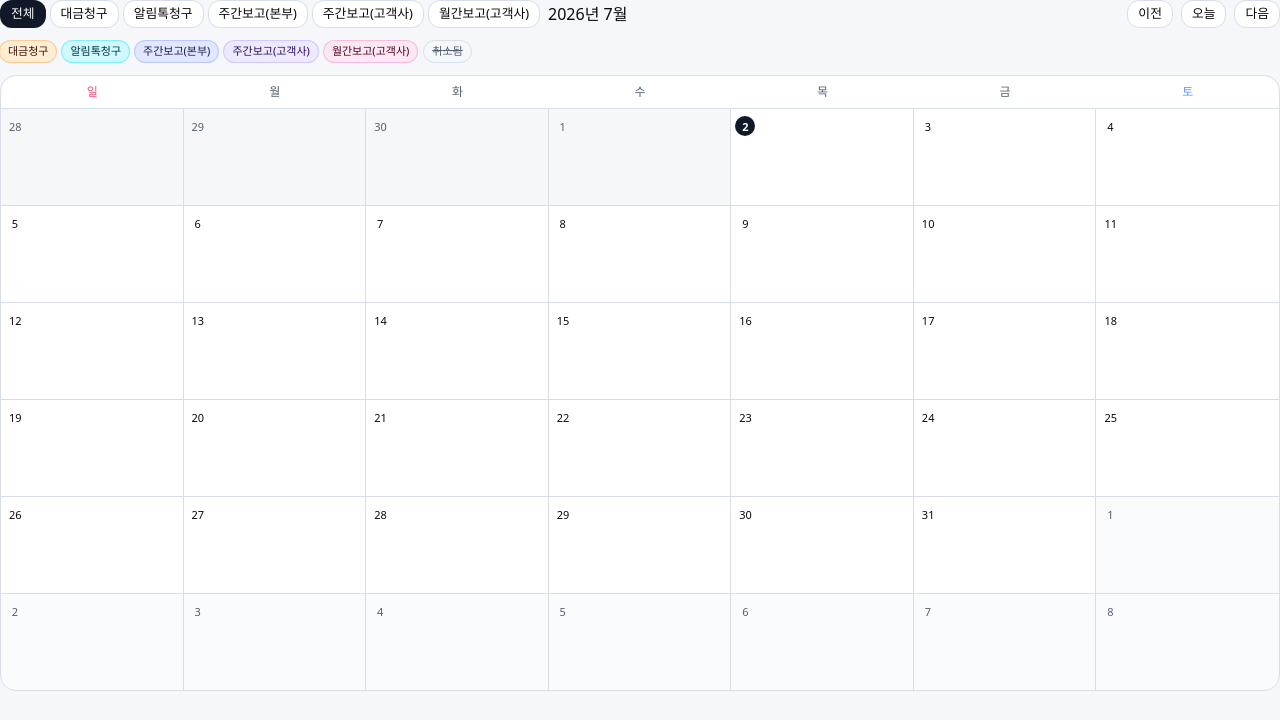
it: WorkflowsCalendar — 팝오버·생성(D9) › 빈 날짜는 '업무 없음'
Click the button "15" at [640, 350], box [549,302,731,398]
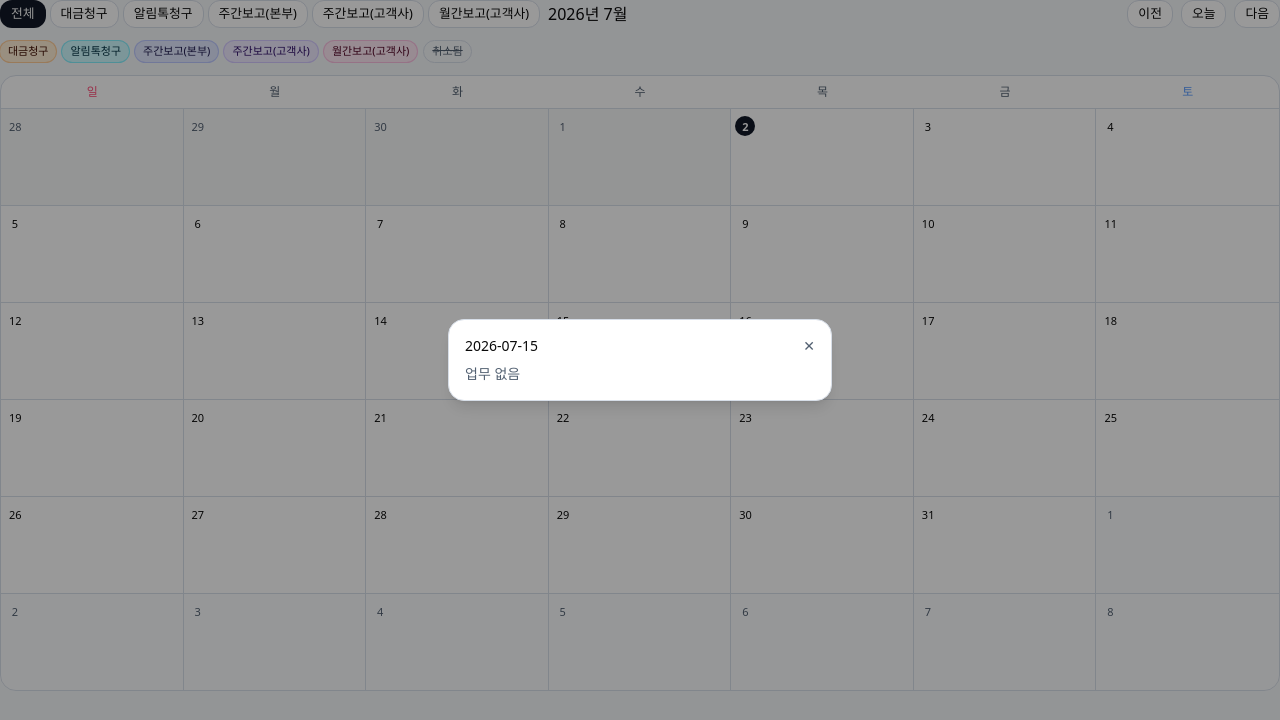
Check: the list item "업무 없음" is shown, box [465,364,520,383]
